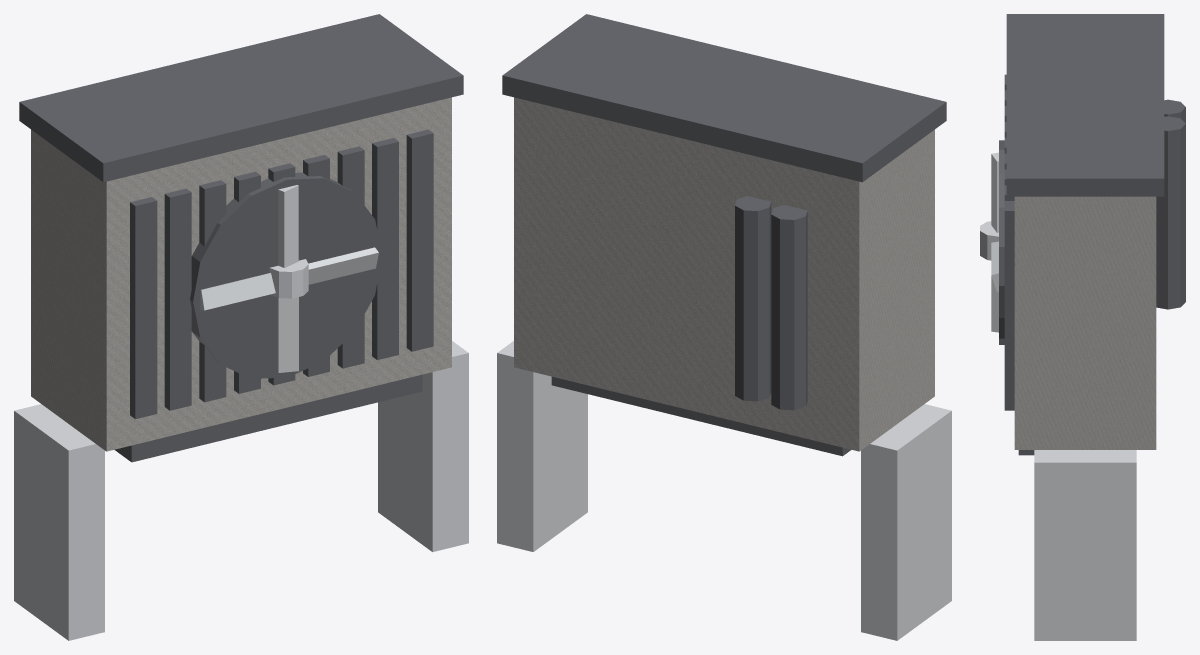
The model's file is air_conditioning_outdoor_unit.glb.
3 renders of one model, left to right at view 1: azimuth 30°, elevation 25°; view 2: azimuth 150°, elevation 25°; view 3: azimuth 270°, elevation 25°, orthographic. The views are drawn at different scales.
Visible parts, largest first — view 1: air-conditioning-outdoor-unit-charcoal, air-conditioning-outdoor-unit-concrete, air-conditioning-outdoor-unit-steel, fan; view 2: air-conditioning-outdoor-unit-concrete, air-conditioning-outdoor-unit-charcoal, air-conditioning-outdoor-unit-steel; view 3: air-conditioning-outdoor-unit-charcoal, air-conditioning-outdoor-unit-concrete, air-conditioning-outdoor-unit-steel, fan.
Part boxes in pixels (bbox=[...]): air-conditioning-outdoor-unit-charcoal: bbox=[19, 14, 463, 462]; air-conditioning-outdoor-unit-concrete: bbox=[31, 97, 451, 451]; air-conditioning-outdoor-unit-steel: bbox=[14, 341, 468, 640]; fan: bbox=[200, 185, 378, 372]; air-conditioning-outdoor-unit-concrete: bbox=[514, 97, 934, 451]; air-conditioning-outdoor-unit-charcoal: bbox=[502, 14, 946, 456]; air-conditioning-outdoor-unit-steel: bbox=[497, 341, 951, 640]; air-conditioning-outdoor-unit-charcoal: bbox=[999, 14, 1185, 455]; air-conditioning-outdoor-unit-concrete: bbox=[1014, 196, 1156, 449]; air-conditioning-outdoor-unit-steel: bbox=[1034, 450, 1136, 640]; fan: bbox=[980, 152, 998, 332].
Bounding box in the file's own units: 1.1 × 1.27 × 0.5225.
3 materials, 1 textured.
